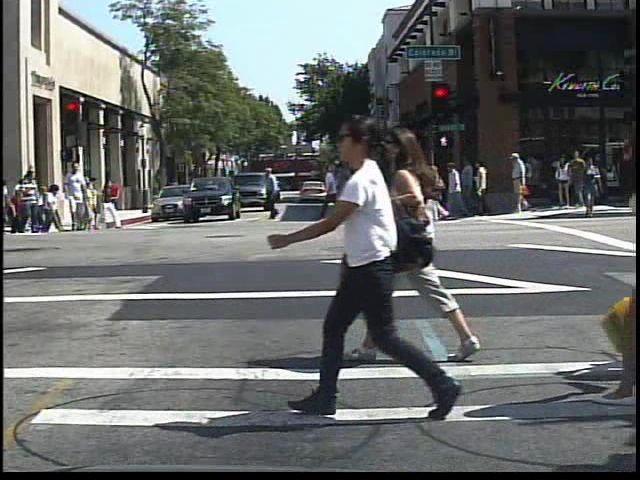person: (286, 107, 438, 422), (380, 119, 484, 365), (60, 161, 91, 233), (15, 167, 41, 236), (508, 147, 531, 214), (166, 173, 184, 206), (109, 179, 123, 207)
